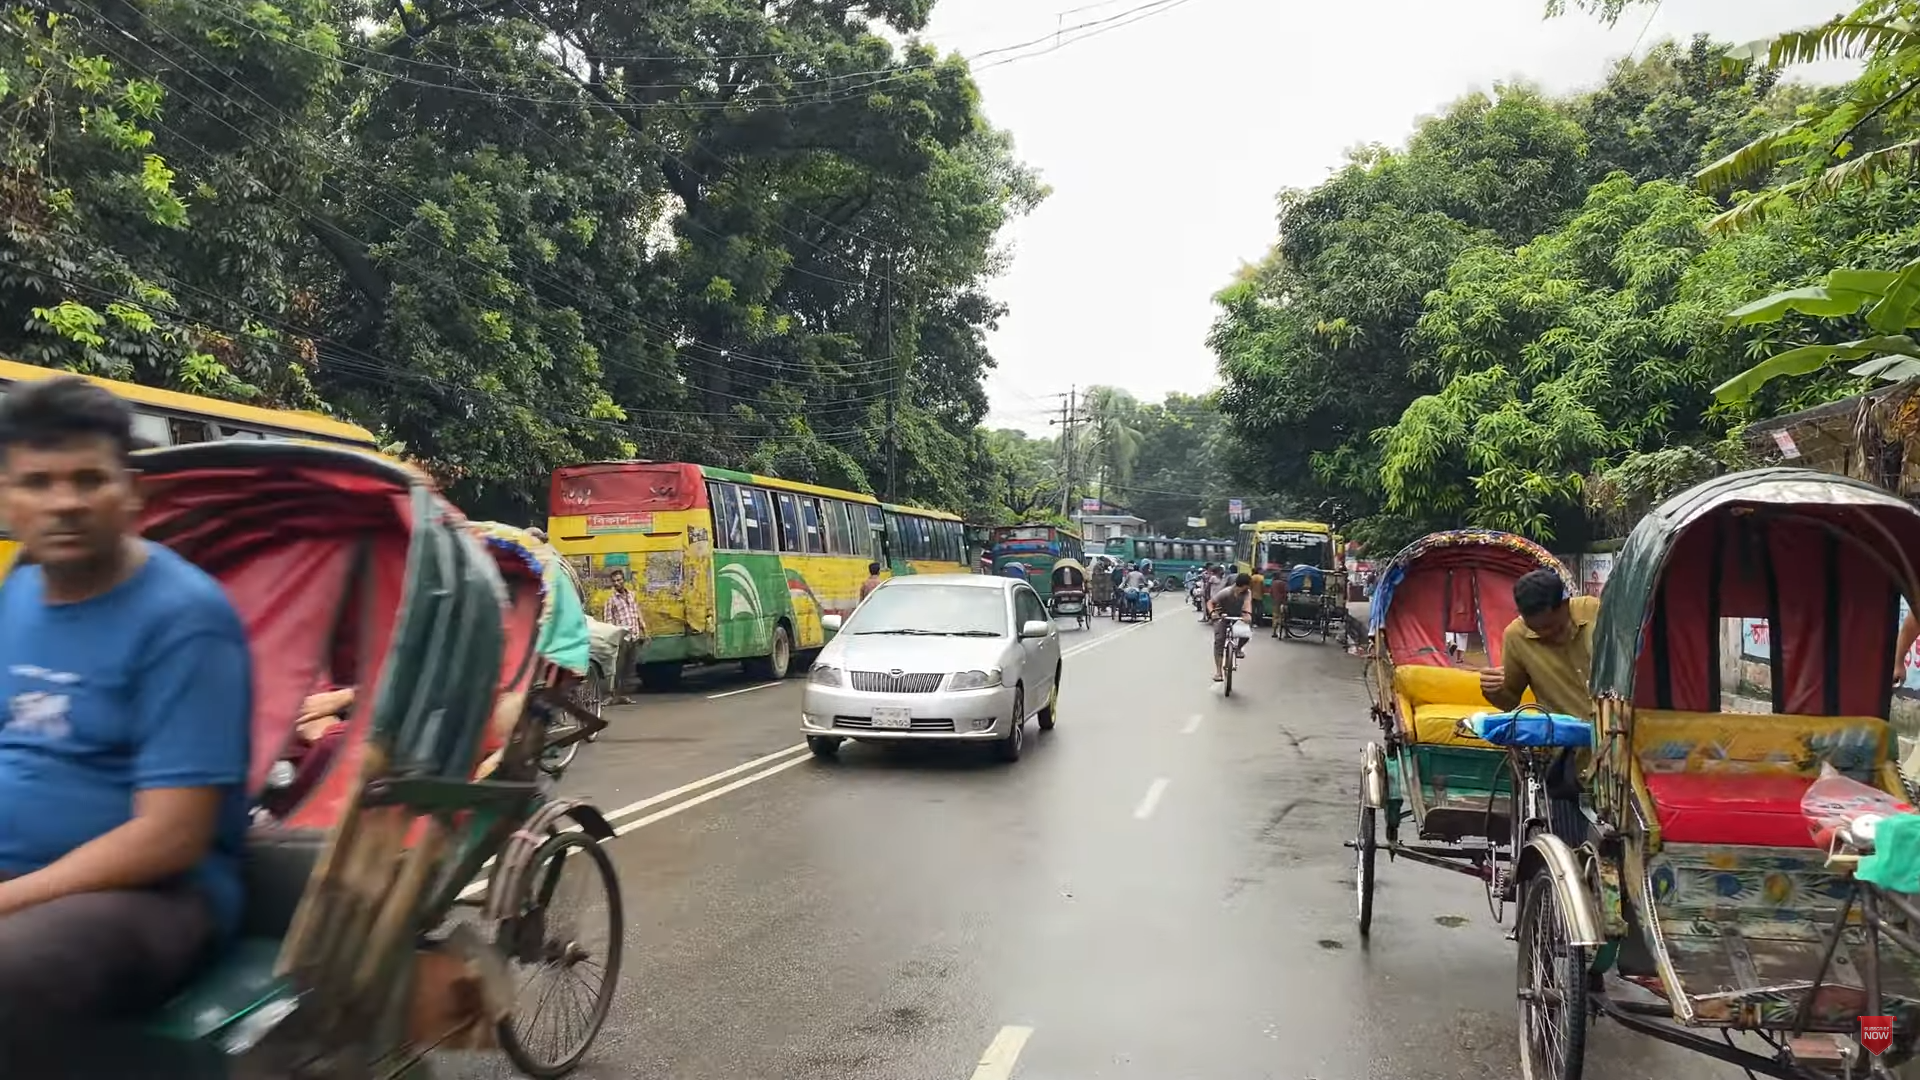Car: (793, 576, 1071, 781)
Rickshaw: (0, 373, 632, 1080), (1506, 458, 1911, 1073), (1352, 535, 1633, 960)
